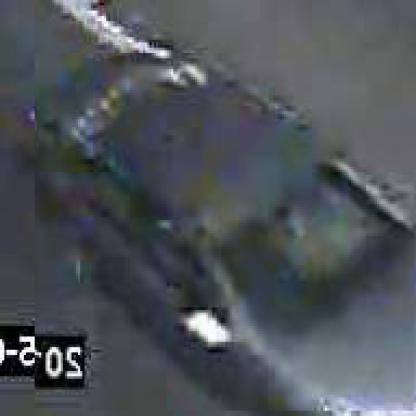car: (33, 54, 415, 414)
